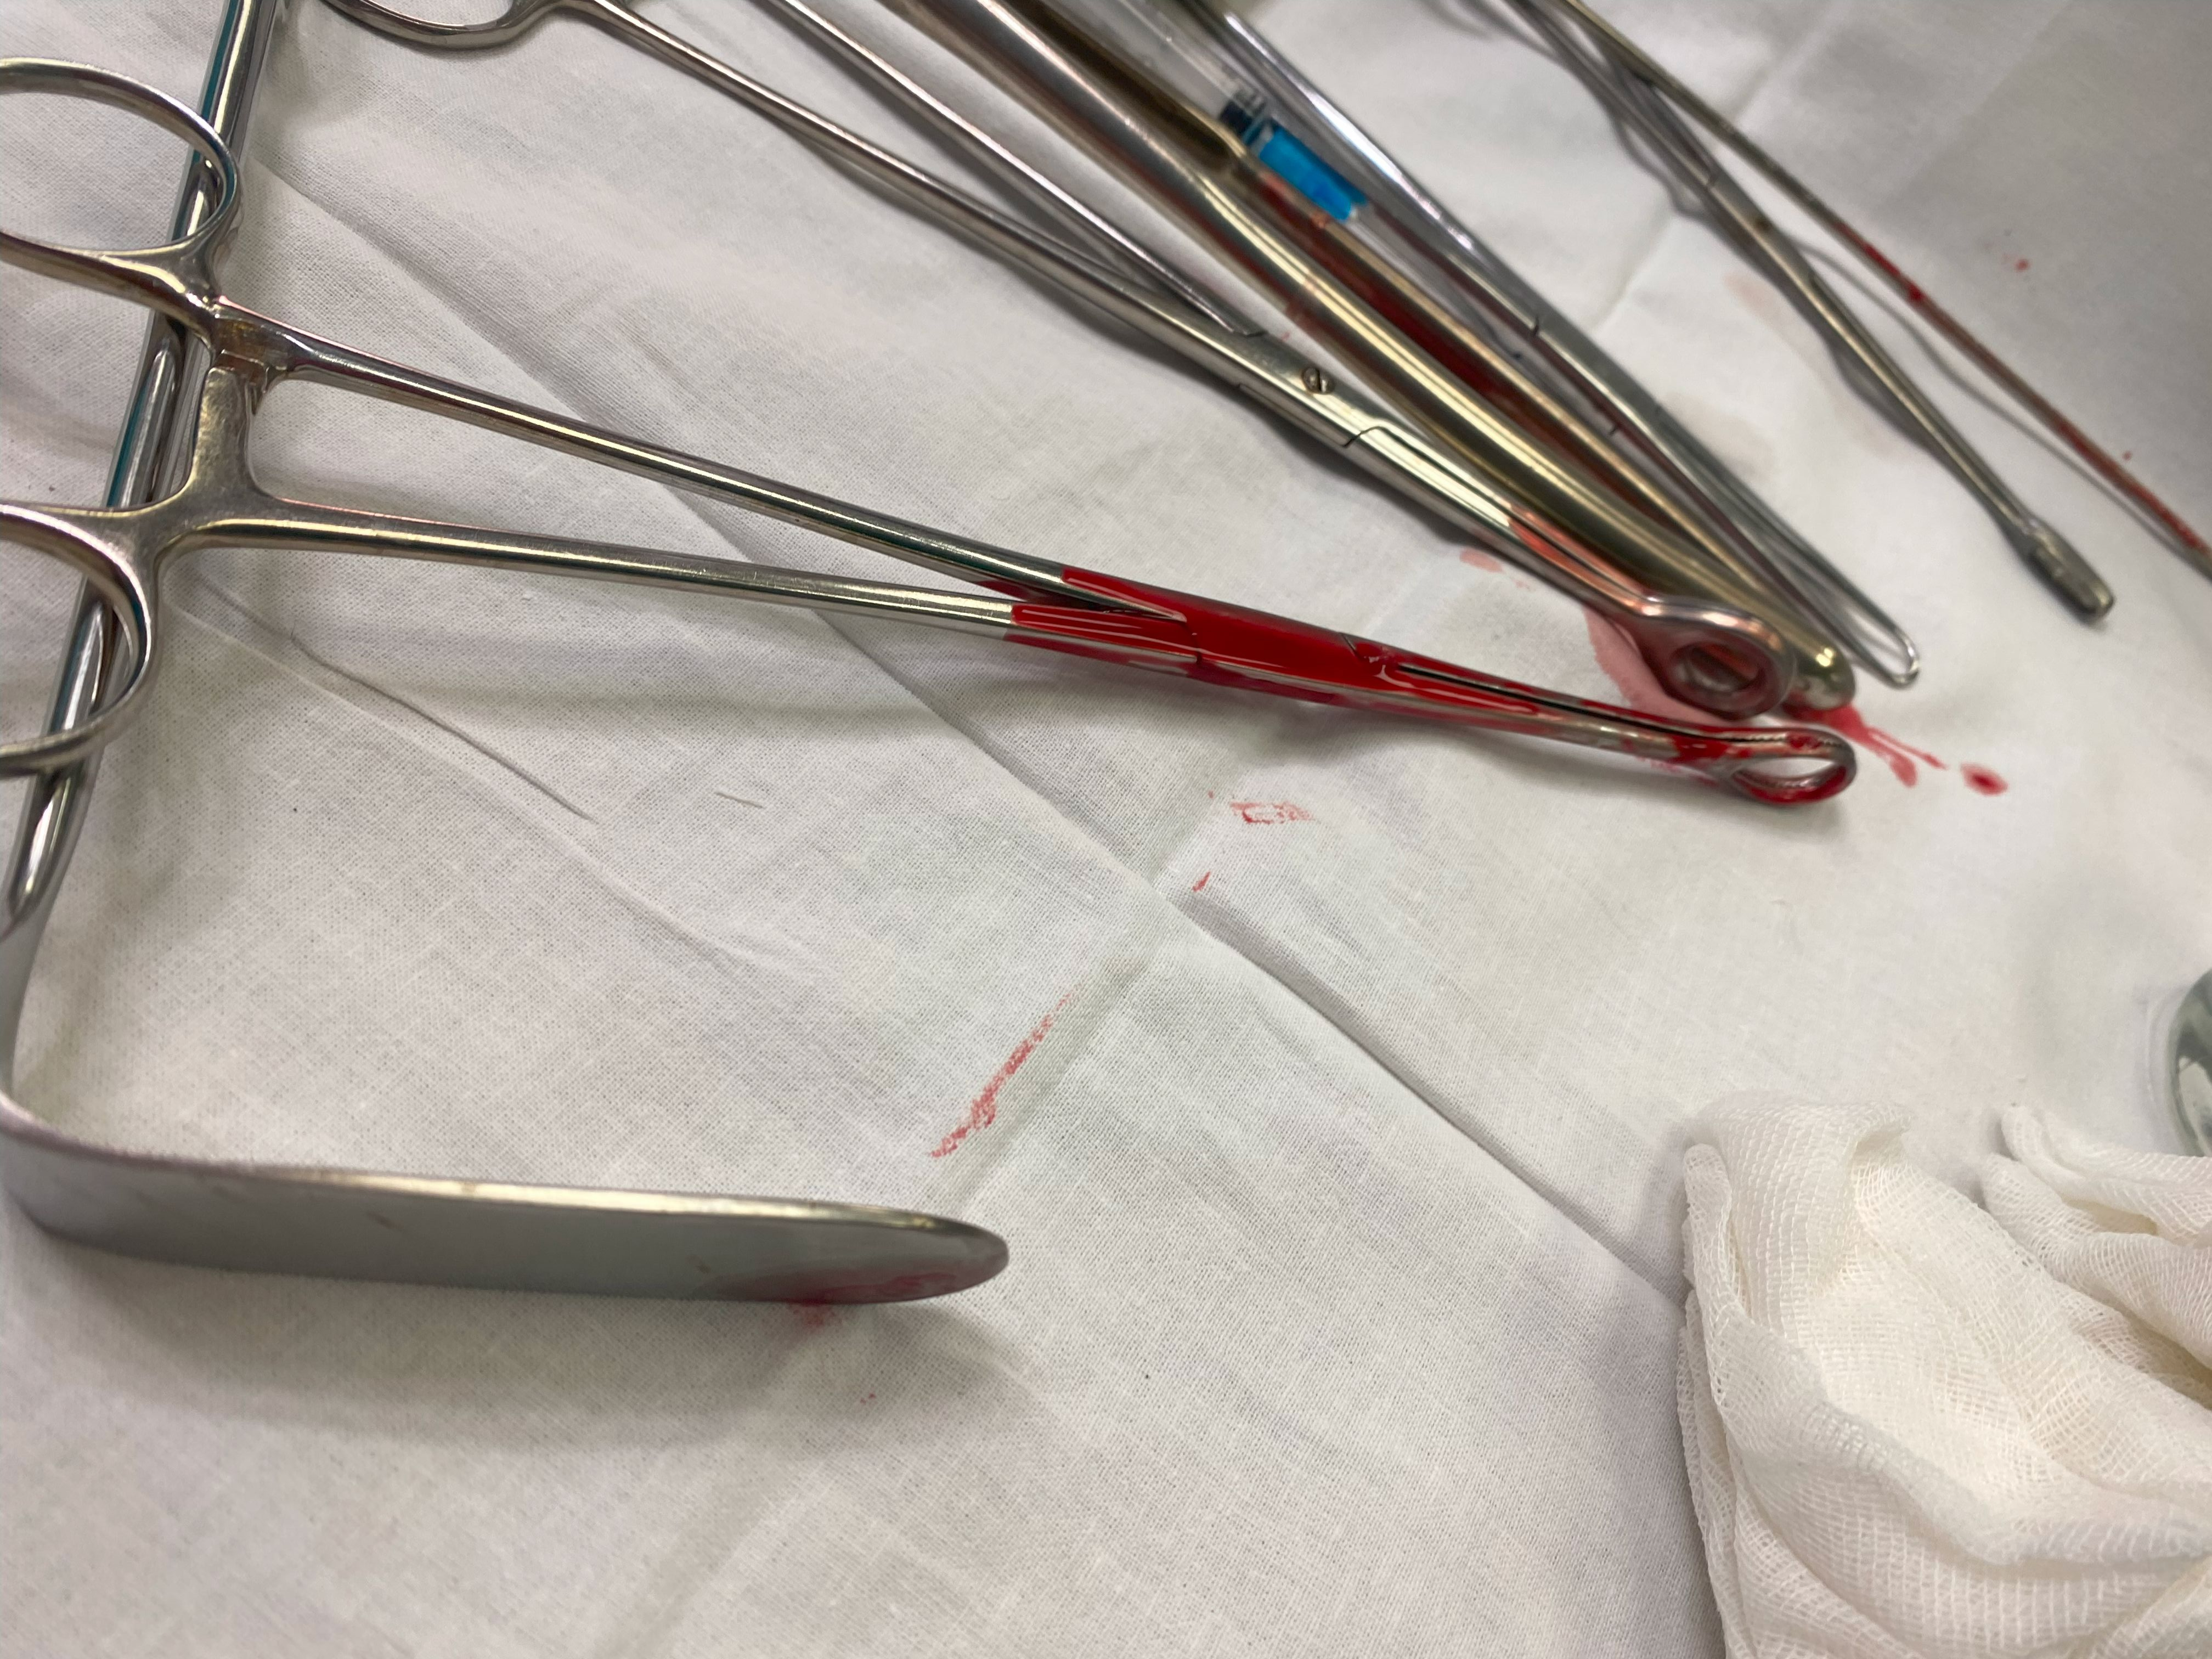clamp: (329, 0, 1796, 718)
